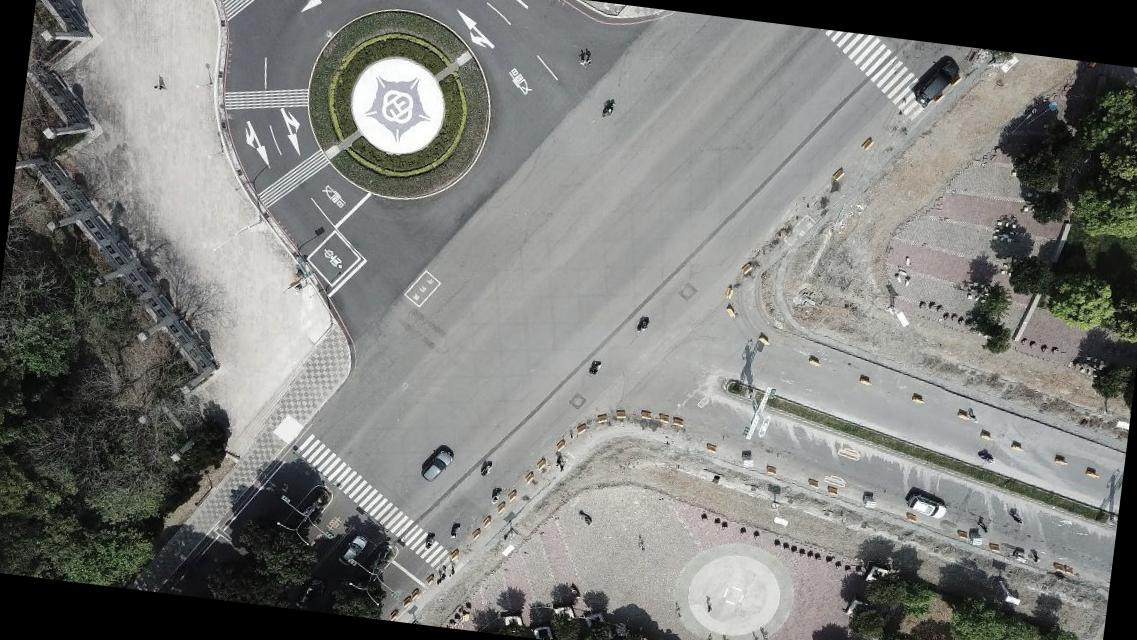vehicle: (908, 52, 960, 112), (418, 444, 454, 484), (905, 490, 948, 520), (337, 532, 367, 571), (295, 576, 326, 611)
